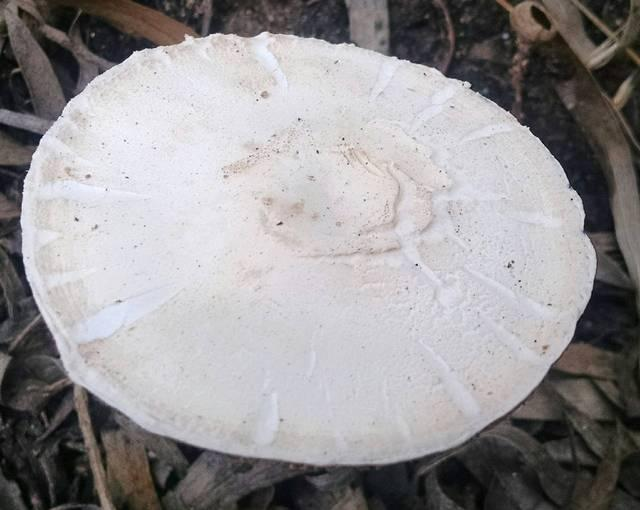Non-edible Mushroom: (18, 29, 598, 468)
